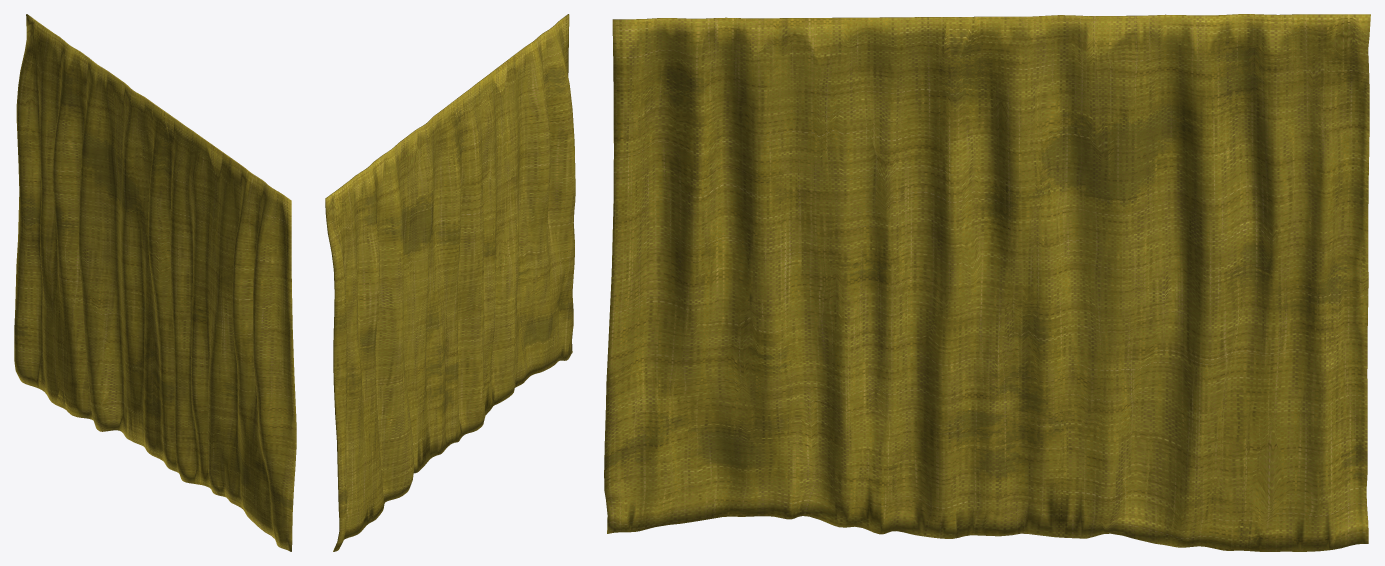
File: unaCortina.fbx
The picture shows the model from 3 angles, left to right: view 1: azimuth 30°, elevation 25°; view 2: azimuth 150°, elevation 25°; view 3: azimuth 270°, elevation 25°; orthographic projection. The views are drawn at different scales.
Visible parts, largest first — view 1: cortinaF; view 2: cortinaF; view 3: cortinaF.
Part boxes in pixels (<box>): cortinaF: <box>14,14,296,551</box>; cortinaF: <box>325,14,575,551</box>; cortinaF: <box>604,14,1370,551</box>.
Size of the model in its own units: 33.75 by 431 by 555.
